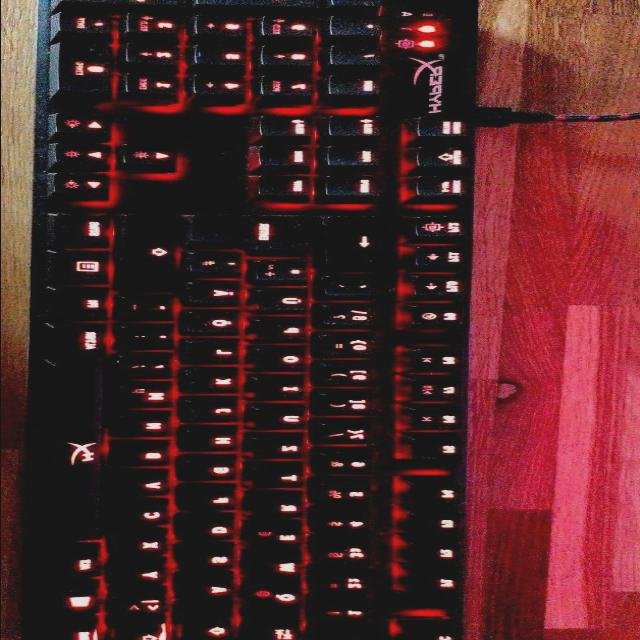0: (319, 333, 384, 359)
1: (316, 604, 374, 629)
2: (316, 574, 376, 598)
3: (316, 540, 377, 568)
4: (315, 513, 375, 536)
5: (315, 479, 376, 509)
6: (316, 449, 381, 479)
7: (316, 422, 381, 448)
8: (316, 391, 384, 418)
9: (318, 363, 382, 388)
a: (182, 579, 238, 605)
accent: (324, 275, 384, 299)
ae: (188, 282, 249, 307)
alt-left: (43, 548, 106, 582)
altgr-right: (50, 325, 114, 359)
b: (117, 443, 178, 469)
c: (113, 505, 174, 530)
caret: (318, 631, 372, 640)
comma: (118, 356, 181, 380)
d: (183, 519, 241, 544)
del: (326, 217, 387, 271)
e: (249, 524, 309, 552)
enter: (189, 216, 315, 254)
f: (186, 489, 244, 514)
g: (184, 459, 245, 483)
h: (185, 429, 246, 455)
hash: (189, 252, 251, 277)
i: (255, 378, 312, 402)
j: (188, 400, 247, 424)
k: (186, 369, 247, 395)
keyboard: (23, 0, 485, 640)
l: (186, 340, 248, 366)
less: (113, 593, 172, 619)
m: (115, 383, 181, 411)
minus: (122, 297, 182, 321)
n: (116, 414, 181, 440)
o: (254, 348, 313, 373)
oe: (187, 310, 248, 336)
p: (257, 320, 314, 343)
plus: (256, 260, 316, 284)
point: (121, 326, 181, 351)
q: (248, 588, 307, 612)
r: (252, 495, 310, 522)
s: (183, 549, 241, 575)
shift-left: (115, 626, 169, 640)
shift-lock: (179, 611, 238, 640)
shift-right: (124, 216, 181, 292)
space: (40, 363, 108, 547)
ss: (320, 305, 381, 329)
strg-left: (34, 624, 103, 640)
strg-right: (55, 215, 116, 247)
t: (251, 465, 312, 492)
tab: (247, 614, 306, 640)
u: (254, 407, 312, 433)
ue: (257, 290, 315, 314)
v: (115, 475, 176, 501)
w: (248, 556, 307, 582)
x: (114, 535, 173, 560)
y: (113, 565, 171, 589)
z: (252, 438, 312, 462)
